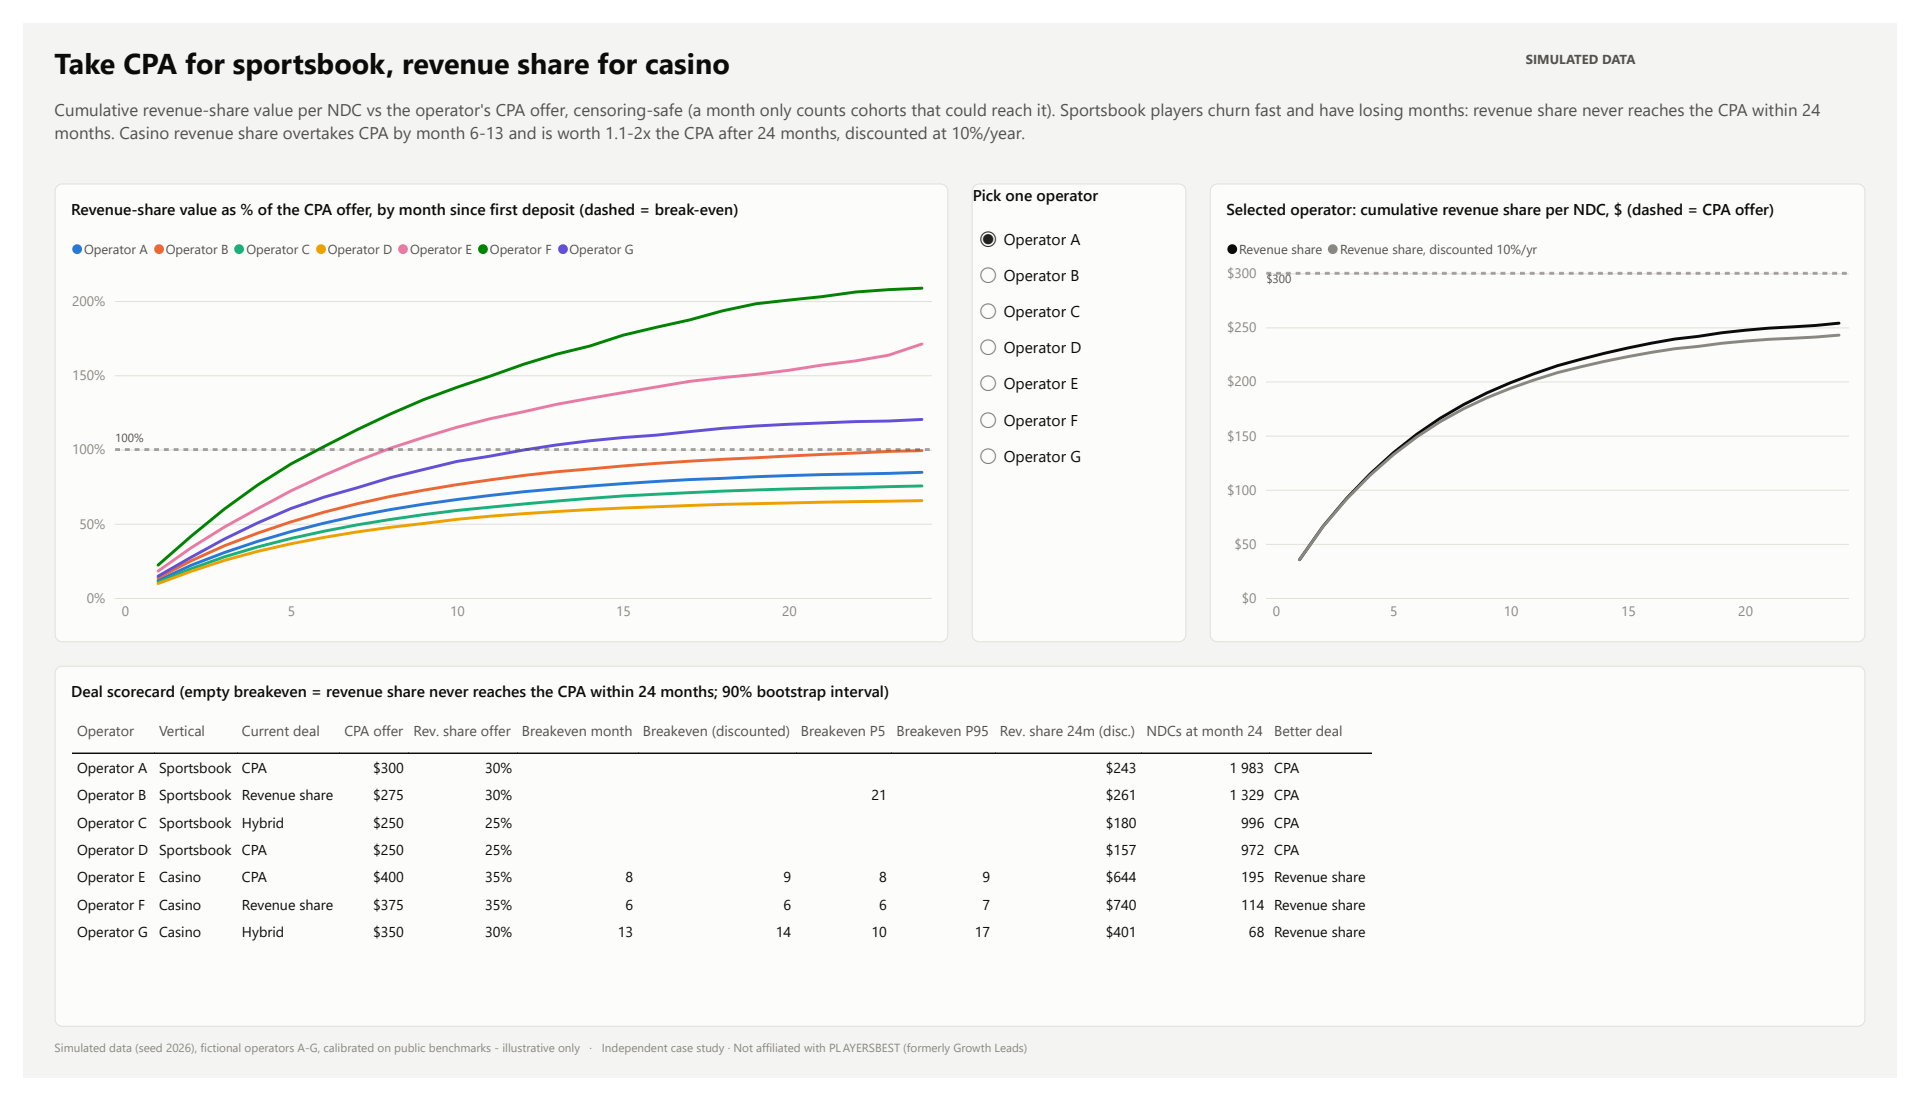

Layout of this report page (visuals, bound fields, positions):
{"tool":"powerbi","page":{"name":"3 · CPA or revenue share","canvas":[1920,1080],"ordinal":3},"visuals":[{"type":"textbox","box":[32,20,1500,56],"z":1000},{"type":"textbox","box":[1540,28,348,40],"z":2000},{"type":"textbox","box":[32,76,1856,72],"z":3000},{"type":"lineChart","title":"Revenue-share value as % of the CPA offer, by month since first deposit (dashed = break-even)","fields":{"Category":["Deal Curves.month_n"],"Series":["Deal Curves.operator"],"Y":["_Measures.Revenue Share vs CPA"]},"box":[32,164,916,470],"z":4000},{"type":"slicer","title":"Pick one operator","fields":{"Values":["Operator.operator"]},"box":[972,164,220,470],"z":5000},{"type":"lineChart","title":"Selected operator: cumulative revenue share per NDC, $ (dashed = CPA offer)","fields":{"Category":["Deal Curves.month_n"],"Y":["_Measures.Cum Revenue Share per NDC","_Measures.Cum Revenue Share Discounted"]},"box":[1216,164,672,470],"z":6000},{"type":"tableEx","title":"Deal scorecard (empty breakeven = revenue share never reaches the CPA within 24 months; 90% bootstrap interval)","fields":{"Values":["Deal Summary.operator","Deal Summary.vertical","Deal Summary.current_deal","Deal Summary.cpa_offer_usd","Deal Summary.revshare_offer_pct","Deal Summary.breakeven_month","Deal Summary.breakeven_month_discounted","Deal Summary.breakeven_p5","Deal Summary.breakeven_p95","Deal Summary.revshare_24m_disc_usd","Deal Summary.ndcs_observed_m24","Deal Summary.better_deal"]},"box":[32,658,1856,370],"z":7000},{"type":"textbox","box":[32,1040,1856,32],"z":8000}]}

Visuals, with their boxes in screenshot pixels (x1, y1, x2, y2), scaled from the page's 1920x1080 canvas onto the 1920x1101 screenshot:
textbox: (32,20,1532,77)
textbox: (1540,29,1888,69)
textbox: (32,77,1888,151)
"Revenue-share value as % of the CPA offer, by month since first deposit (dashed = break-even)" lineChart: (32,167,948,646)
"Pick one operator" slicer: (972,167,1192,646)
"Selected operator: cumulative revenue share per NDC, $ (dashed = CPA offer)" lineChart: (1216,167,1888,646)
"Deal scorecard (empty breakeven = revenue share never reaches the CPA within 24 months; 90% bootstrap interval)" tableEx: (32,671,1888,1048)
textbox: (32,1060,1888,1093)
